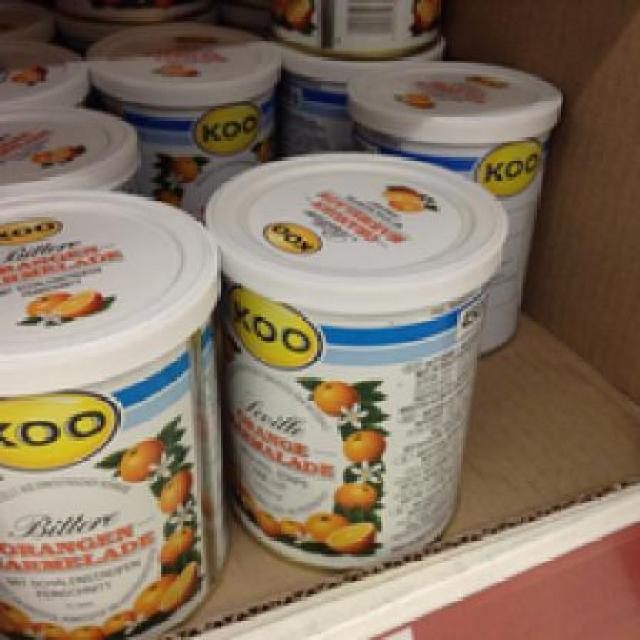Jam: (200, 148, 509, 568), (0, 188, 226, 638)
